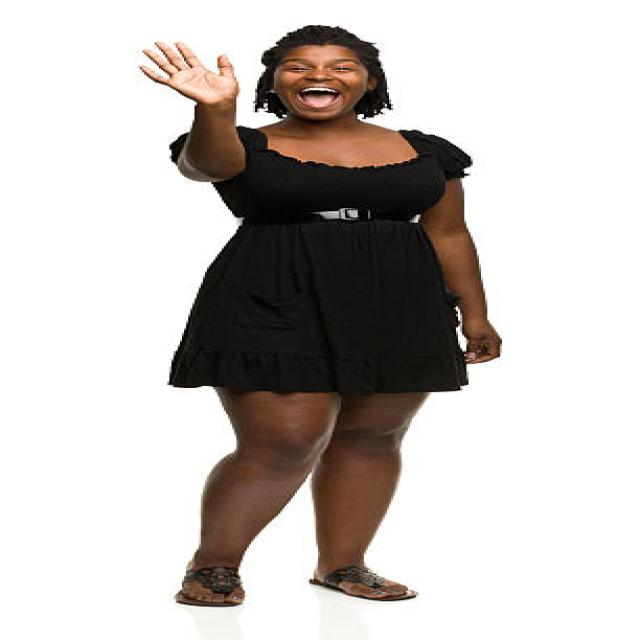Edited images: (108, 14, 504, 612)
